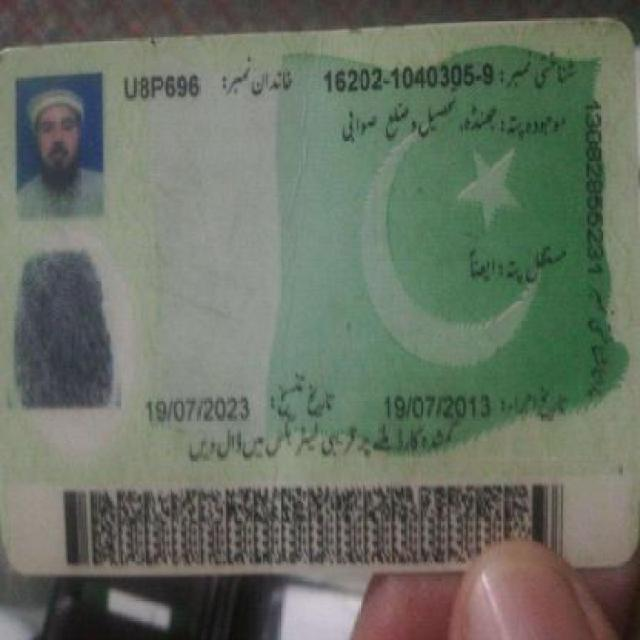Back: (3, 34, 626, 575)
